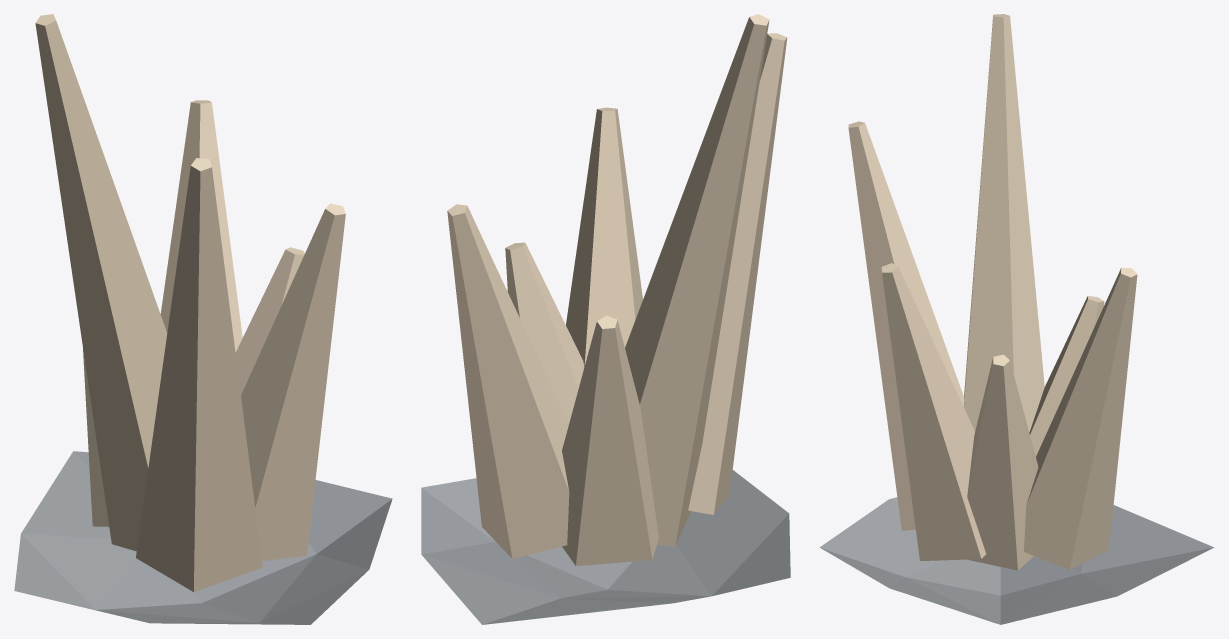
File: crystal_v10.glb
3 views of the same model, side by side, from view 1: azimuth 30°, elevation 25°; view 2: azimuth 150°, elevation 25°; view 3: azimuth 270°, elevation 25° (orthographic). The views are drawn at different scales.
Visible parts, largest first — view 1: lod0; view 2: lod0; view 3: lod0.
Part boxes in pixels (left/top/right/bottom): lod0: left=14, top=14, right=392, bottom=624; lod0: left=421, top=14, right=790, bottom=624; lod0: left=819, top=14, right=1214, bottom=624.
Size of what is drawn, in the model's own units: 0.5847 by 0.9211 by 0.6358.
